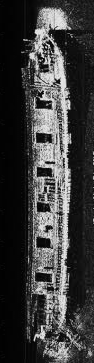ship: (20, 28, 78, 346)
